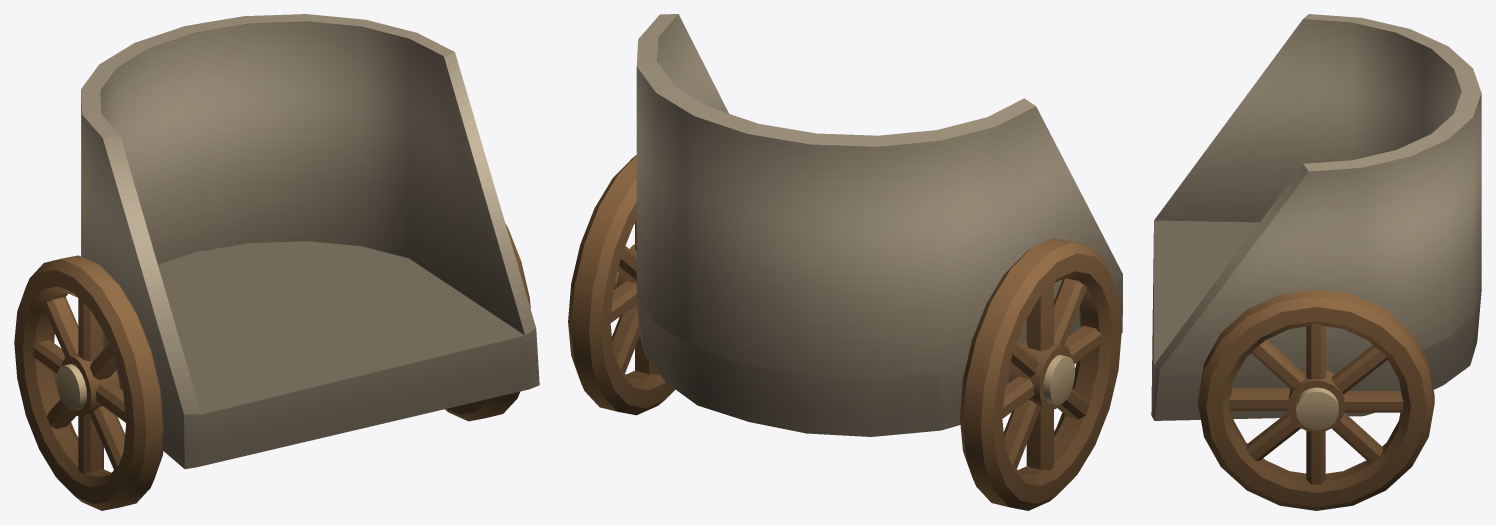
The model's file is Carro.fbx.
3 views of the same model, side by side, from view 1: azimuth 30°, elevation 25°; view 2: azimuth 150°, elevation 25°; view 3: azimuth 270°, elevation 25° (orthographic). The views are drawn at different scales.
Parts seen in each view (by area): view 1: pCube2, pasted__Rueda_3, pasted__Rueda_4, pCylinder1; view 2: pCube2, pasted__Rueda_3, pasted__Rueda_4, pCylinder1; view 3: pCube2, pasted__Rueda_4, pCylinder1.
Part boxes in pixels (left/top/right/bottom): pCube2: left=81, top=14, right=539, bottom=469; pasted__Rueda_3: left=14, top=255, right=163, bottom=510; pasted__Rueda_4: left=445, top=224, right=530, bottom=421; pCylinder1: left=56, top=364, right=86, bottom=410; pCube2: left=636, top=14, right=1122, bottom=436; pasted__Rueda_3: left=959, top=238, right=1121, bottom=510; pasted__Rueda_4: left=568, top=155, right=675, bottom=415; pCylinder1: left=613, top=272, right=1075, bottom=404; pCube2: left=1151, top=14, right=1481, bottom=420; pasted__Rueda_4: left=1198, top=289, right=1434, bottom=510; pCylinder1: left=1296, top=387, right=1338, bottom=430.
Bounding box in the file's own units: 7.98 × 6.75 × 6.04.
